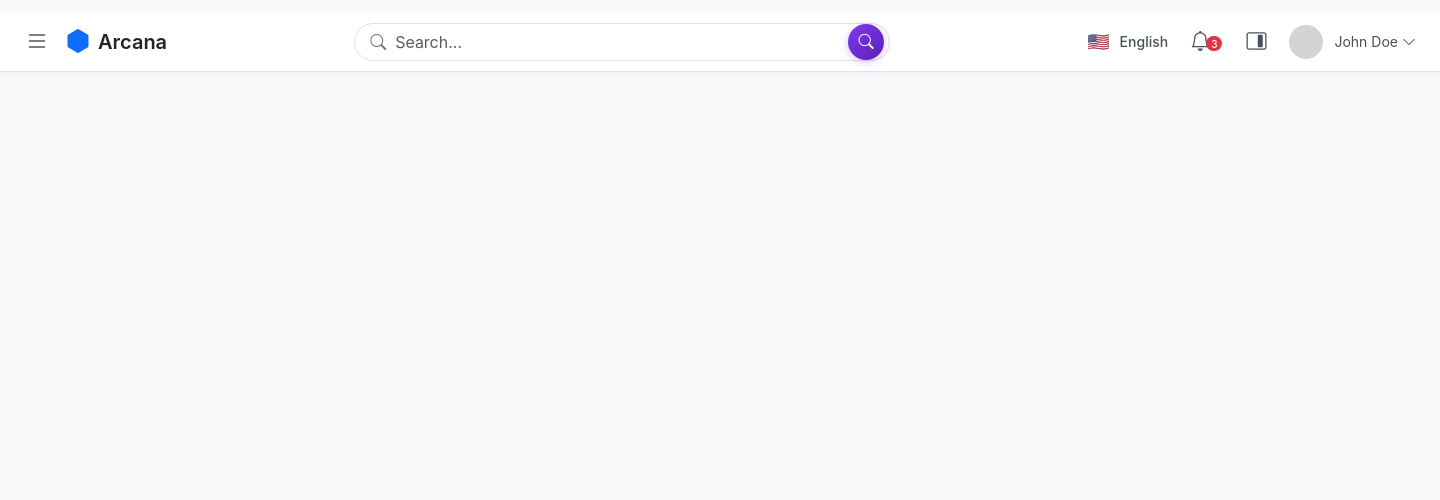
Scenario: Header › should open user dropdown when clicked
Click the button with class "user-menu-toggle" at (1351, 42), box [1278,18,1424,66]
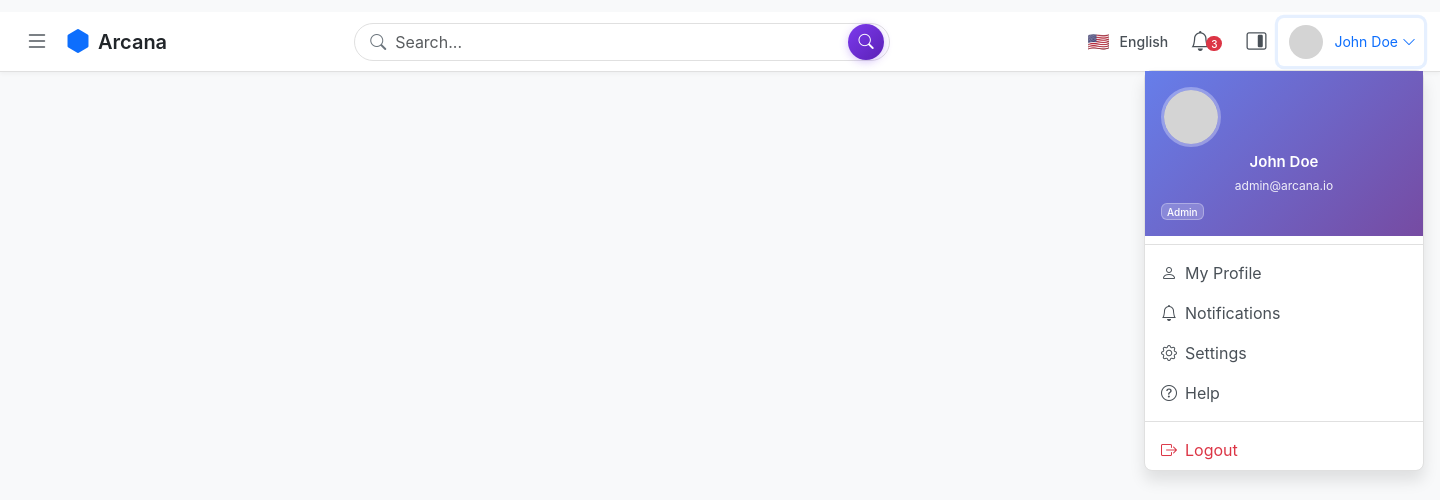
Expected: the button "My Profile" is shown, [1145,253,1423,293]
